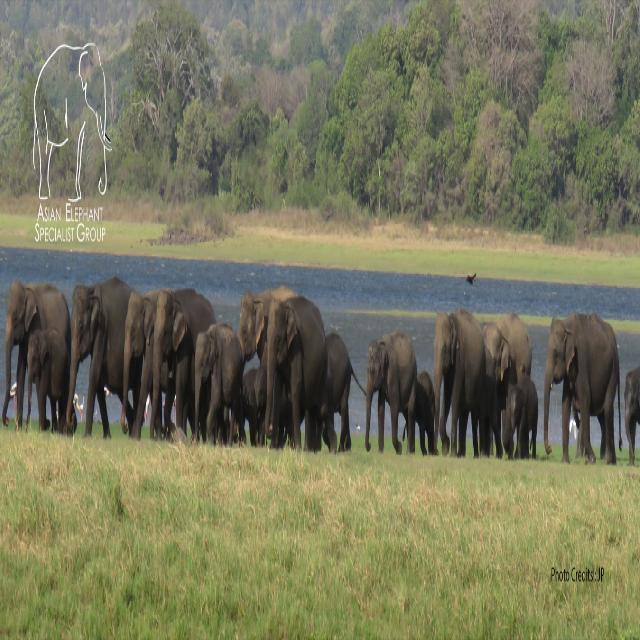Elephant: (538, 310, 622, 467), (2, 268, 69, 449), (263, 296, 327, 456), (430, 302, 488, 472), (65, 268, 120, 442), (364, 327, 418, 474), (191, 315, 241, 449), (326, 322, 365, 475), (153, 286, 184, 435), (21, 329, 64, 435), (124, 288, 152, 449), (240, 279, 263, 443), (502, 374, 537, 466), (623, 366, 640, 465)
